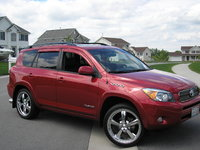Toyota RAV-4: (6, 43, 200, 148)
